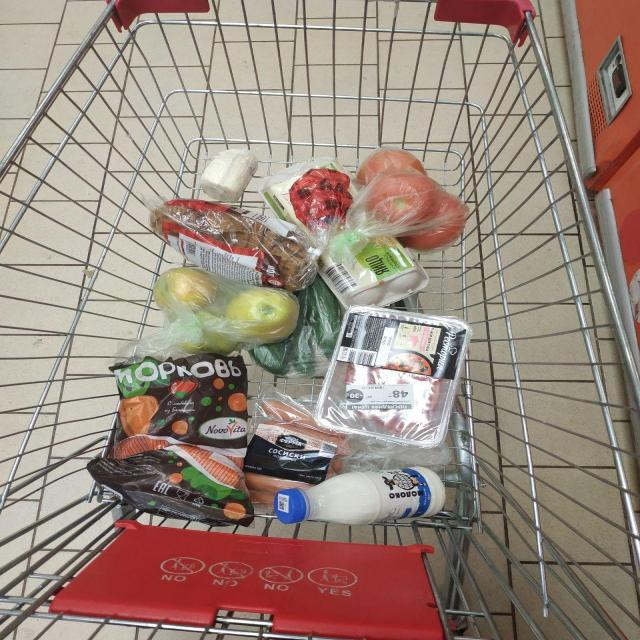Apple: (225, 288, 298, 342), (153, 268, 218, 312), (182, 330, 243, 355)
Bread: (150, 199, 318, 291)
Carrot: (187, 448, 238, 486)
Cheese: (200, 149, 258, 202)
Cucumber: (305, 275, 342, 358), (288, 309, 317, 376), (248, 340, 288, 375)
Eggs: (318, 238, 428, 307), (258, 158, 343, 233)
Meat: (317, 306, 472, 447)
Milk: (275, 466, 445, 525)
Sausages: (243, 389, 350, 507)
Tomatoes: (398, 192, 468, 252), (367, 171, 443, 226), (353, 149, 426, 188)
